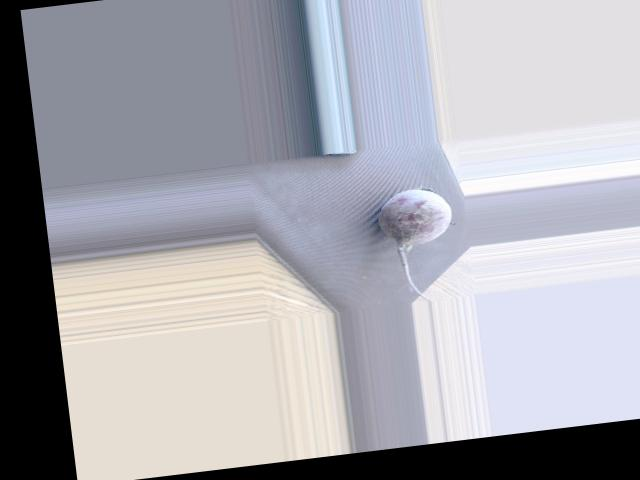beet: (375, 185, 461, 305)
